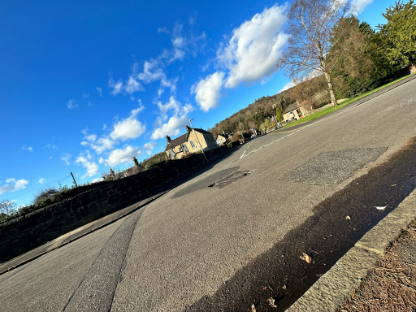tree: (281, 0, 353, 111), (329, 17, 383, 90), (383, 6, 416, 74)
